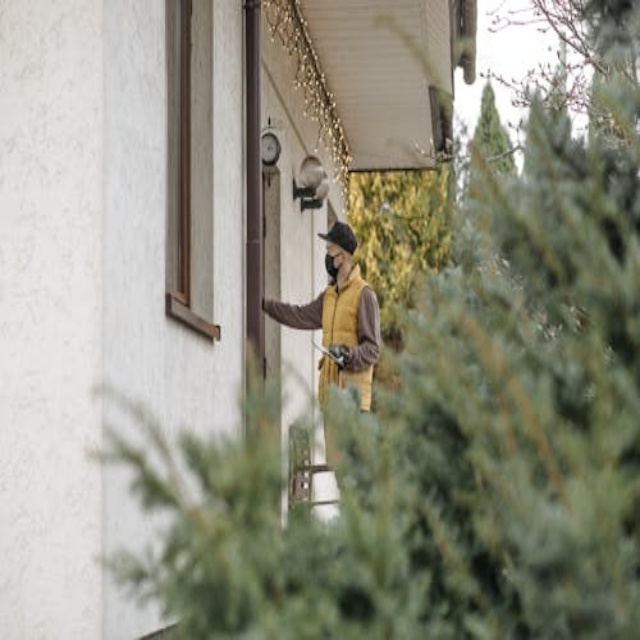Guantes: (329, 344, 350, 368)
Mascara: (325, 254, 339, 283)
